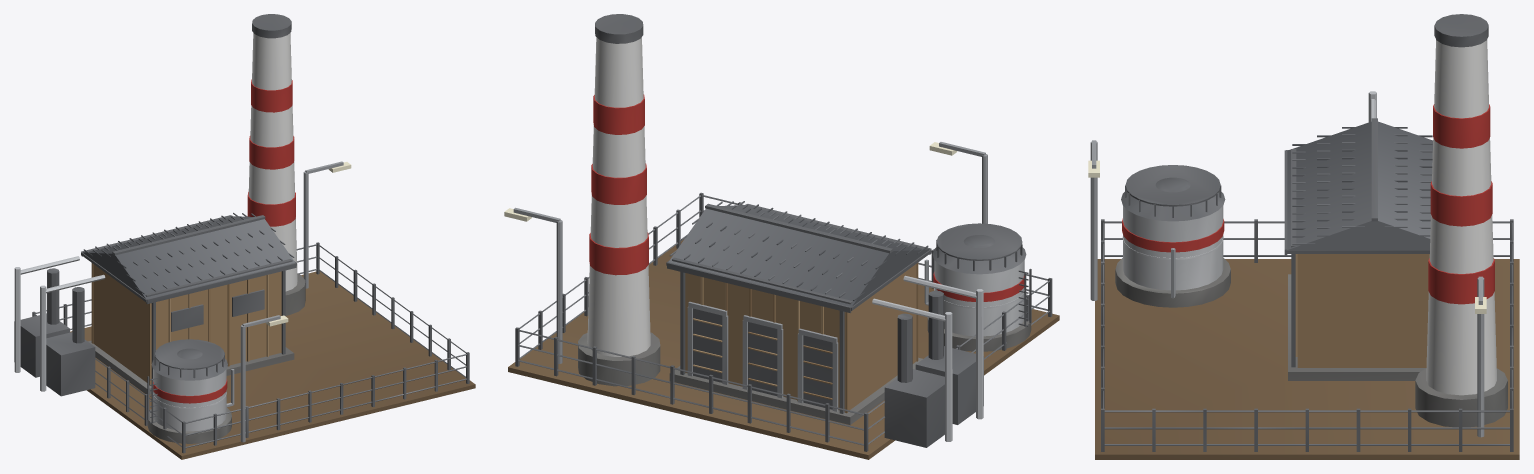
The model's file is Power_P1.fbx.
The picture shows the model from 3 angles, left to right: view 1: azimuth 30°, elevation 25°; view 2: azimuth 150°, elevation 25°; view 3: azimuth 270°, elevation 25°; orthographic projection. The views are drawn at different scales.
Visible parts, largest first — view 1: Power.Hall, Power.Yard, Power.Stack0, Power.Tank0, Power.Switchyard, Power.Fence, Power.Lamp0, Power.Lamp1; view 2: Power.Hall, Power.Stack0, Power.Yard, Power.Switchyard, Power.Tank0, Power.Fence, Power.Lamp1, Power.Lamp0; view 3: Power.Yard, Power.Hall, Power.Stack0, Power.Tank0, Power.Fence, Power.Lamp0, Power.Lamp1.
Part boxes in pixels (<box>): Power.Hall: <box>81,212,296,394</box>; Power.Yard: <box>70,271,475,459</box>; Power.Stack0: <box>247,14,305,315</box>; Power.Tank0: <box>147,339,234,443</box>; Power.Switchyard: <box>14,256,105,396</box>; Power.Fence: <box>32,242,469,453</box>; Power.Lamp0: <box>240,315,288,442</box>; Power.Lamp1: <box>303,161,351,288</box>; Power.Hall: <box>666,201,931,424</box>; Power.Stack0: <box>578,14,660,386</box>; Power.Yard: <box>508,239,1059,459</box>; Power.Switchyard: <box>872,275,983,447</box>; Power.Tank0: <box>924,223,1031,351</box>; Power.Fence: <box>515,192,1052,451</box>; Power.Lamp1: <box>504,207,562,363</box>; Power.Lamp0: <box>929,142,987,223</box>; Power.Yard: <box>1095,259,1519,459</box>; Power.Hall: <box>1284,118,1432,380</box>; Power.Stack0: <box>1415,14,1507,427</box>; Power.Tank0: <box>1115,165,1230,307</box>; Power.Fence: <box>1101,219,1513,451</box>; Power.Lamp0: <box>1088,140,1099,300</box>; Power.Lamp1: <box>1475,276,1486,437</box>.
Bounding box in the file's own units: 2842 × 2221 × 2234.
